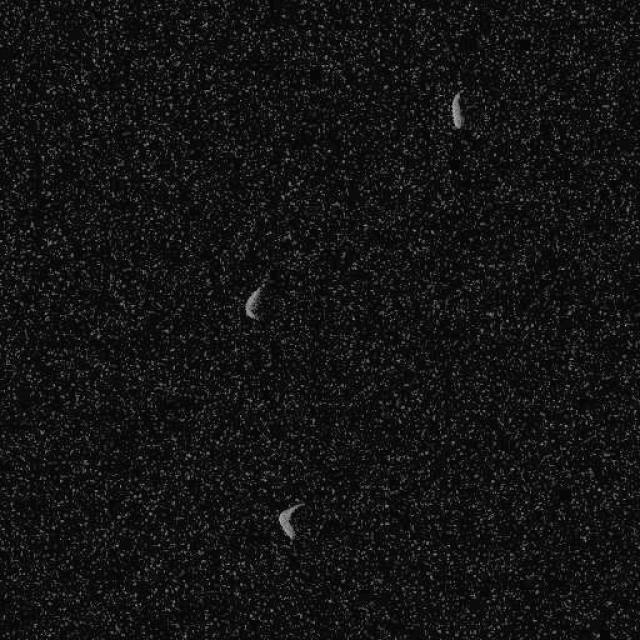D2: (276, 500, 305, 540), (244, 282, 266, 322), (450, 90, 465, 129)
